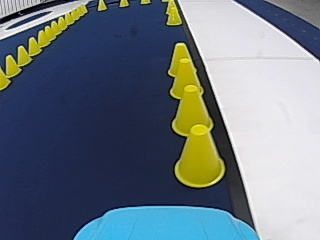cone: (174, 126, 225, 187), (171, 85, 212, 136), (168, 57, 203, 99), (167, 41, 192, 76), (165, 3, 182, 25), (4, 54, 20, 76), (16, 45, 30, 65), (37, 28, 50, 46), (27, 36, 39, 55), (40, 26, 53, 43), (0, 67, 10, 89), (50, 21, 59, 34), (96, 0, 107, 10), (56, 17, 65, 28), (119, 0, 128, 7), (44, 26, 51, 34)
